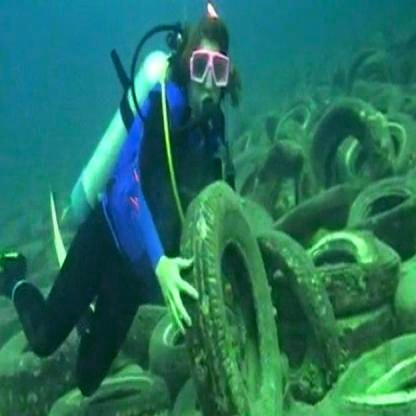tire: (175, 175, 283, 416), (256, 218, 341, 390), (319, 326, 416, 416), (306, 95, 392, 182), (307, 228, 400, 307), (52, 366, 173, 415), (0, 320, 68, 395), (348, 175, 416, 245), (254, 141, 308, 209), (150, 300, 204, 367), (377, 106, 416, 168), (266, 97, 321, 129)
